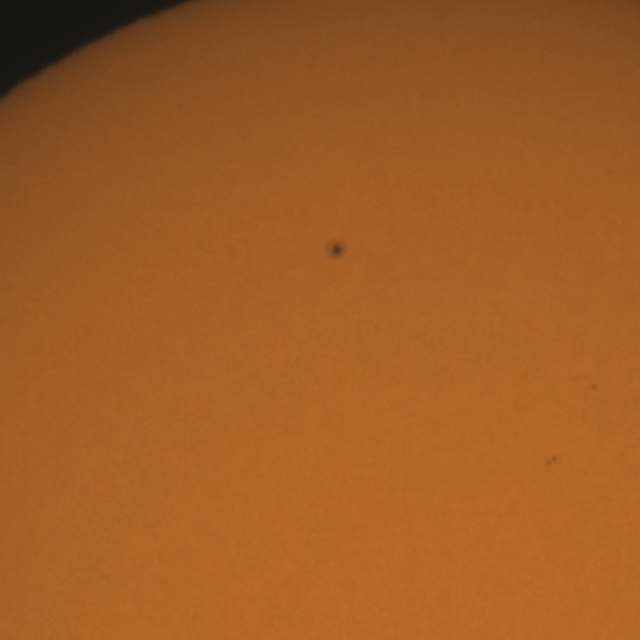sunspot: (326, 240, 347, 261), (544, 454, 560, 468), (589, 382, 599, 393)
